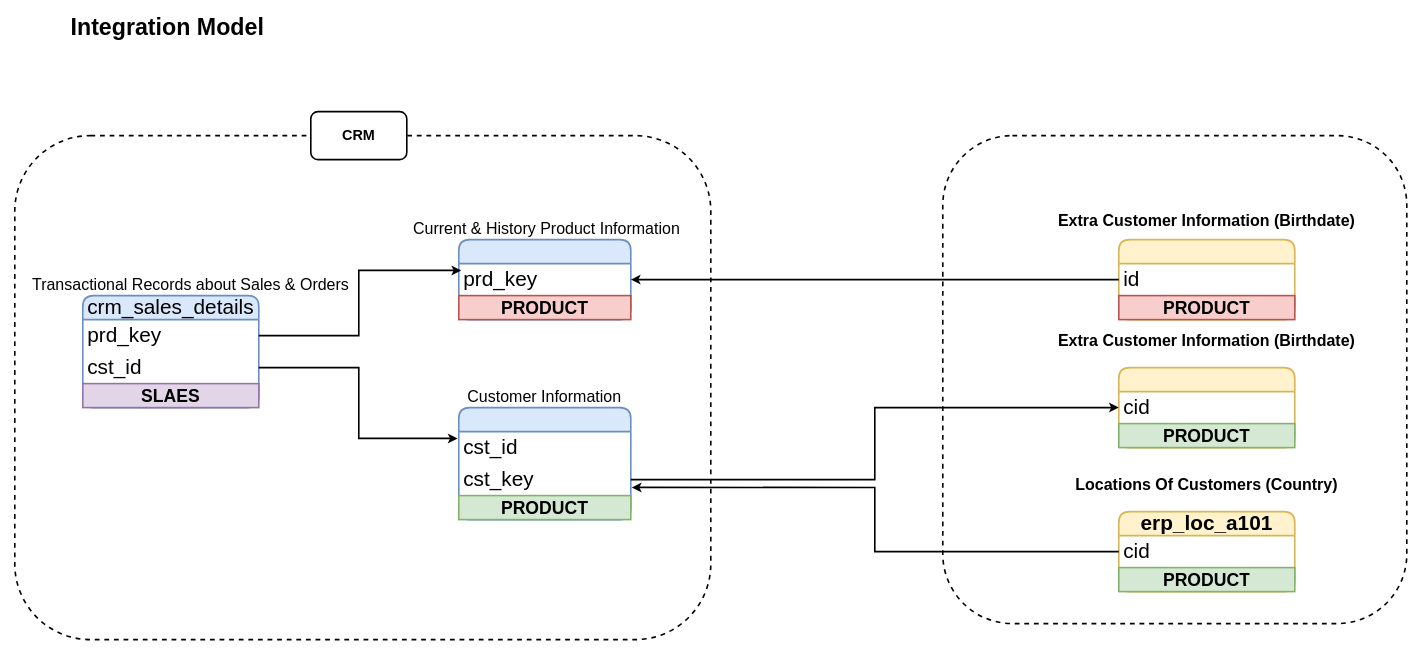
This 1421x654 diagram has some shape labels left out. Here are the shapes that lost their labels. From the top down, the box of each, then its label:
(458, 238, 631, 320): crm_prd_info
(1118, 238, 1295, 320): erp_px_cat_g1v2
(1118, 366, 1295, 448): erp_cust_az12
(458, 406, 631, 520): crm_cust_info
